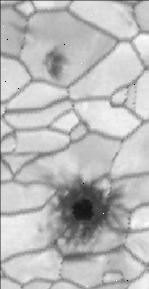good_void: (35, 176, 140, 274), (39, 34, 73, 88), (6, 11, 39, 57)
